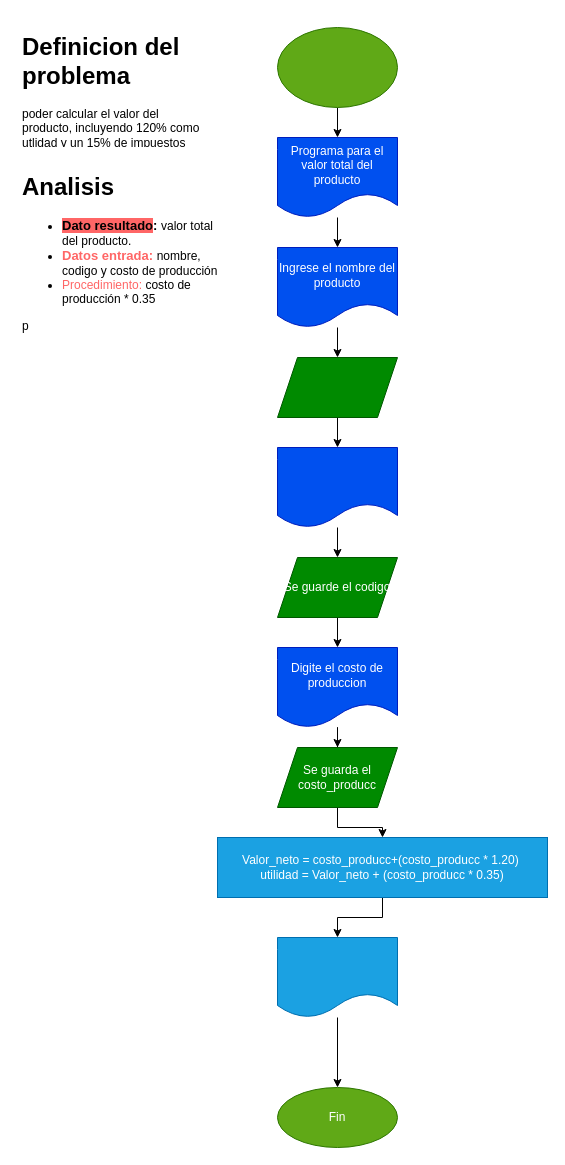
Some shapes in this 565 by 1165 pixel diagram are drawn without their labels. Here are the shapes that lost their labels. From the top down, the box of each, then its label:
(276, 26, 398, 108): Inicio
(276, 356, 398, 418): Se guarda el nombre_producto
(276, 446, 398, 528): Digite el codigo
(276, 936, 398, 1018): "El costo total del producto es de : ", utilidad
